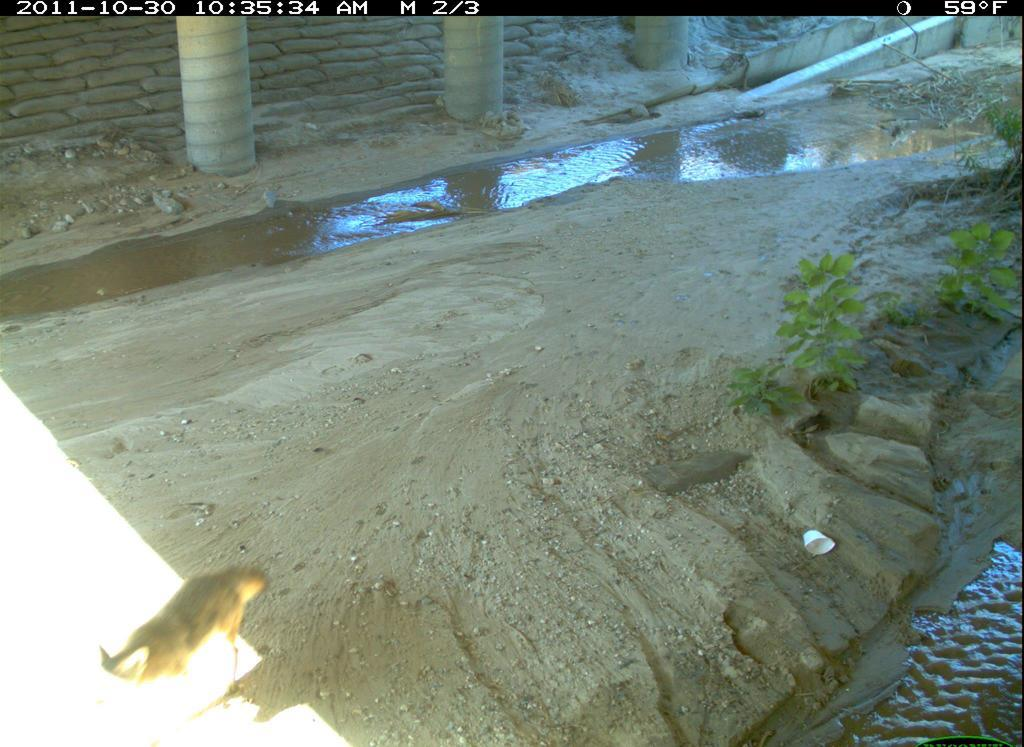coyote: (81, 555, 314, 743)
